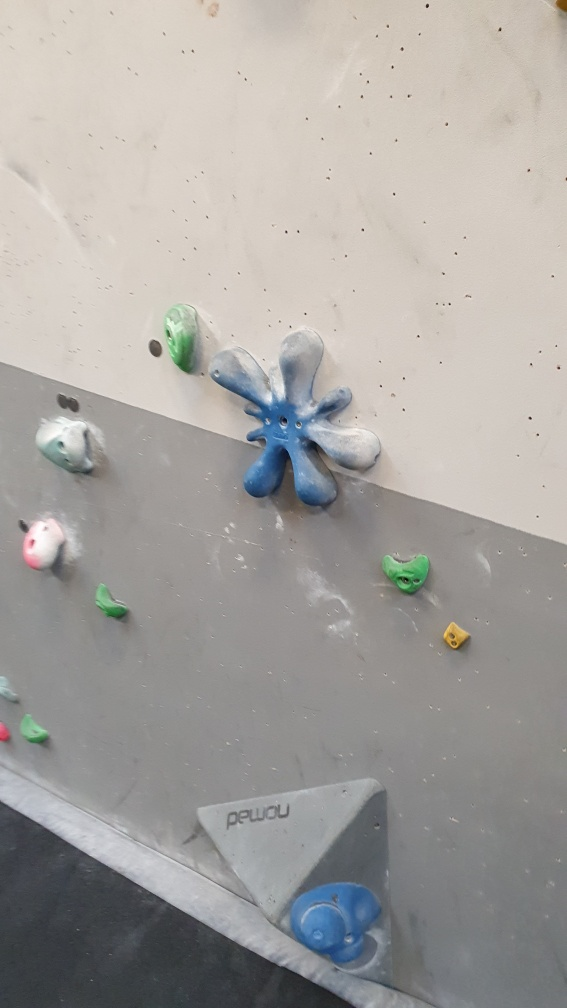Hand Start: (144, 335, 163, 360), (56, 389, 67, 411), (13, 518, 28, 534), (69, 394, 80, 415)
Jug: (161, 302, 208, 385), (378, 542, 437, 595), (21, 515, 70, 578), (57, 416, 97, 473), (92, 582, 134, 620), (19, 711, 50, 750)
Octopus Pinch: (206, 321, 385, 513)
Sloper: (286, 870, 383, 960)
